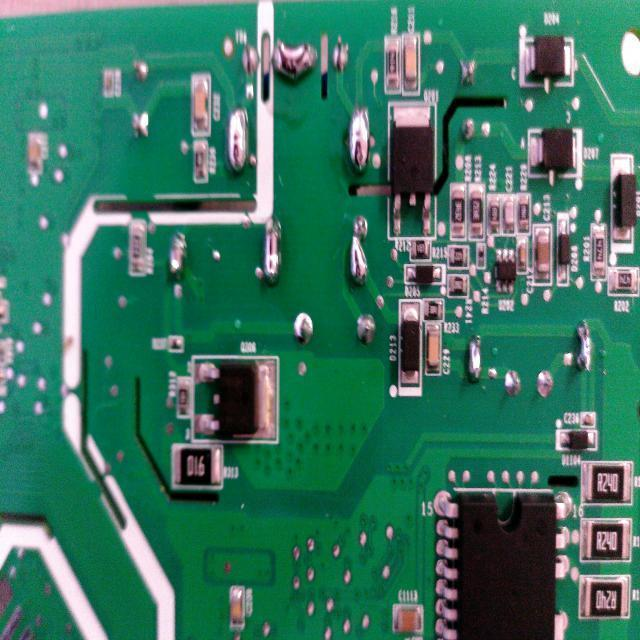Soldering shorted: (270, 34, 318, 87), (345, 212, 372, 292), (225, 98, 250, 182), (262, 208, 285, 296), (349, 100, 371, 184), (572, 311, 593, 380), (465, 328, 487, 386), (168, 233, 188, 286)
